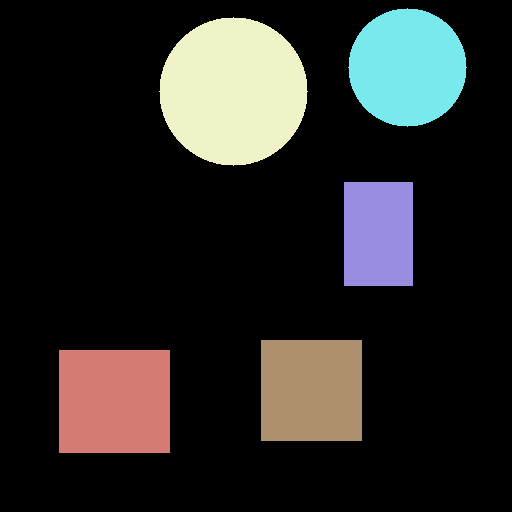circle: (159, 17, 307, 165), (348, 8, 466, 126)
rectangle: (344, 182, 412, 285)
square: (59, 350, 169, 452), (261, 340, 361, 440)
